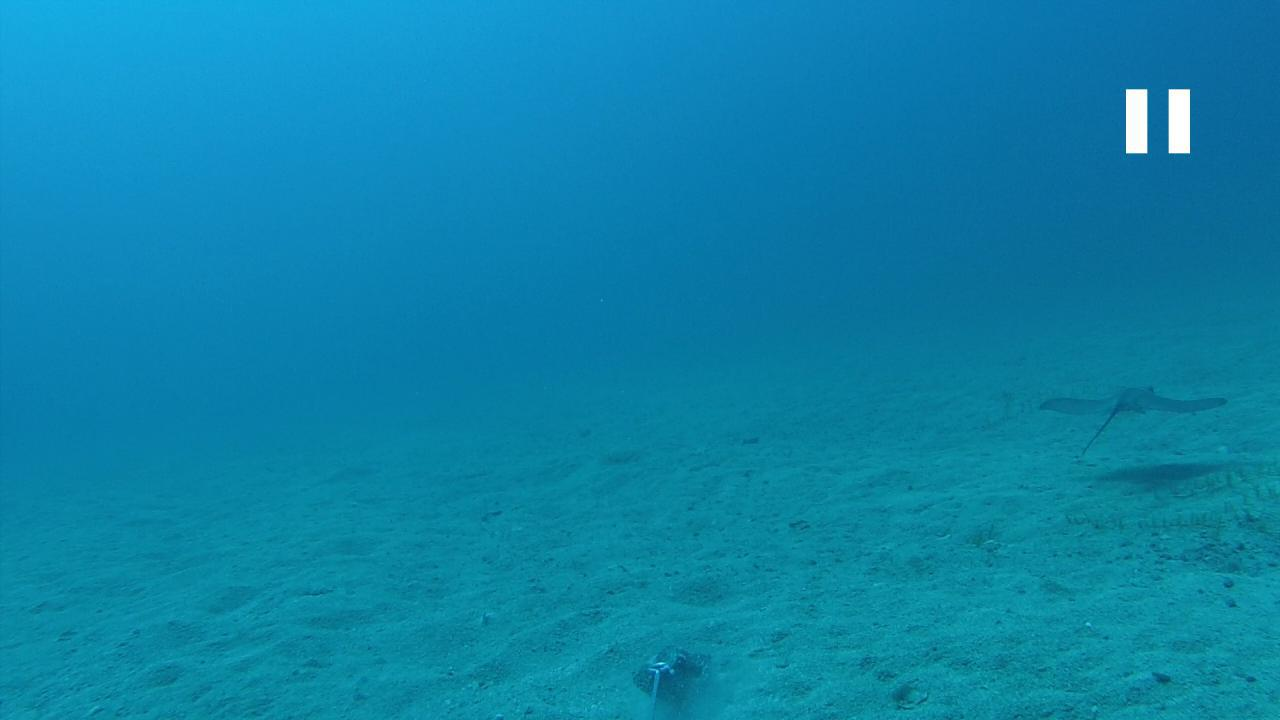dasyatis: (1034, 384, 1228, 463)
